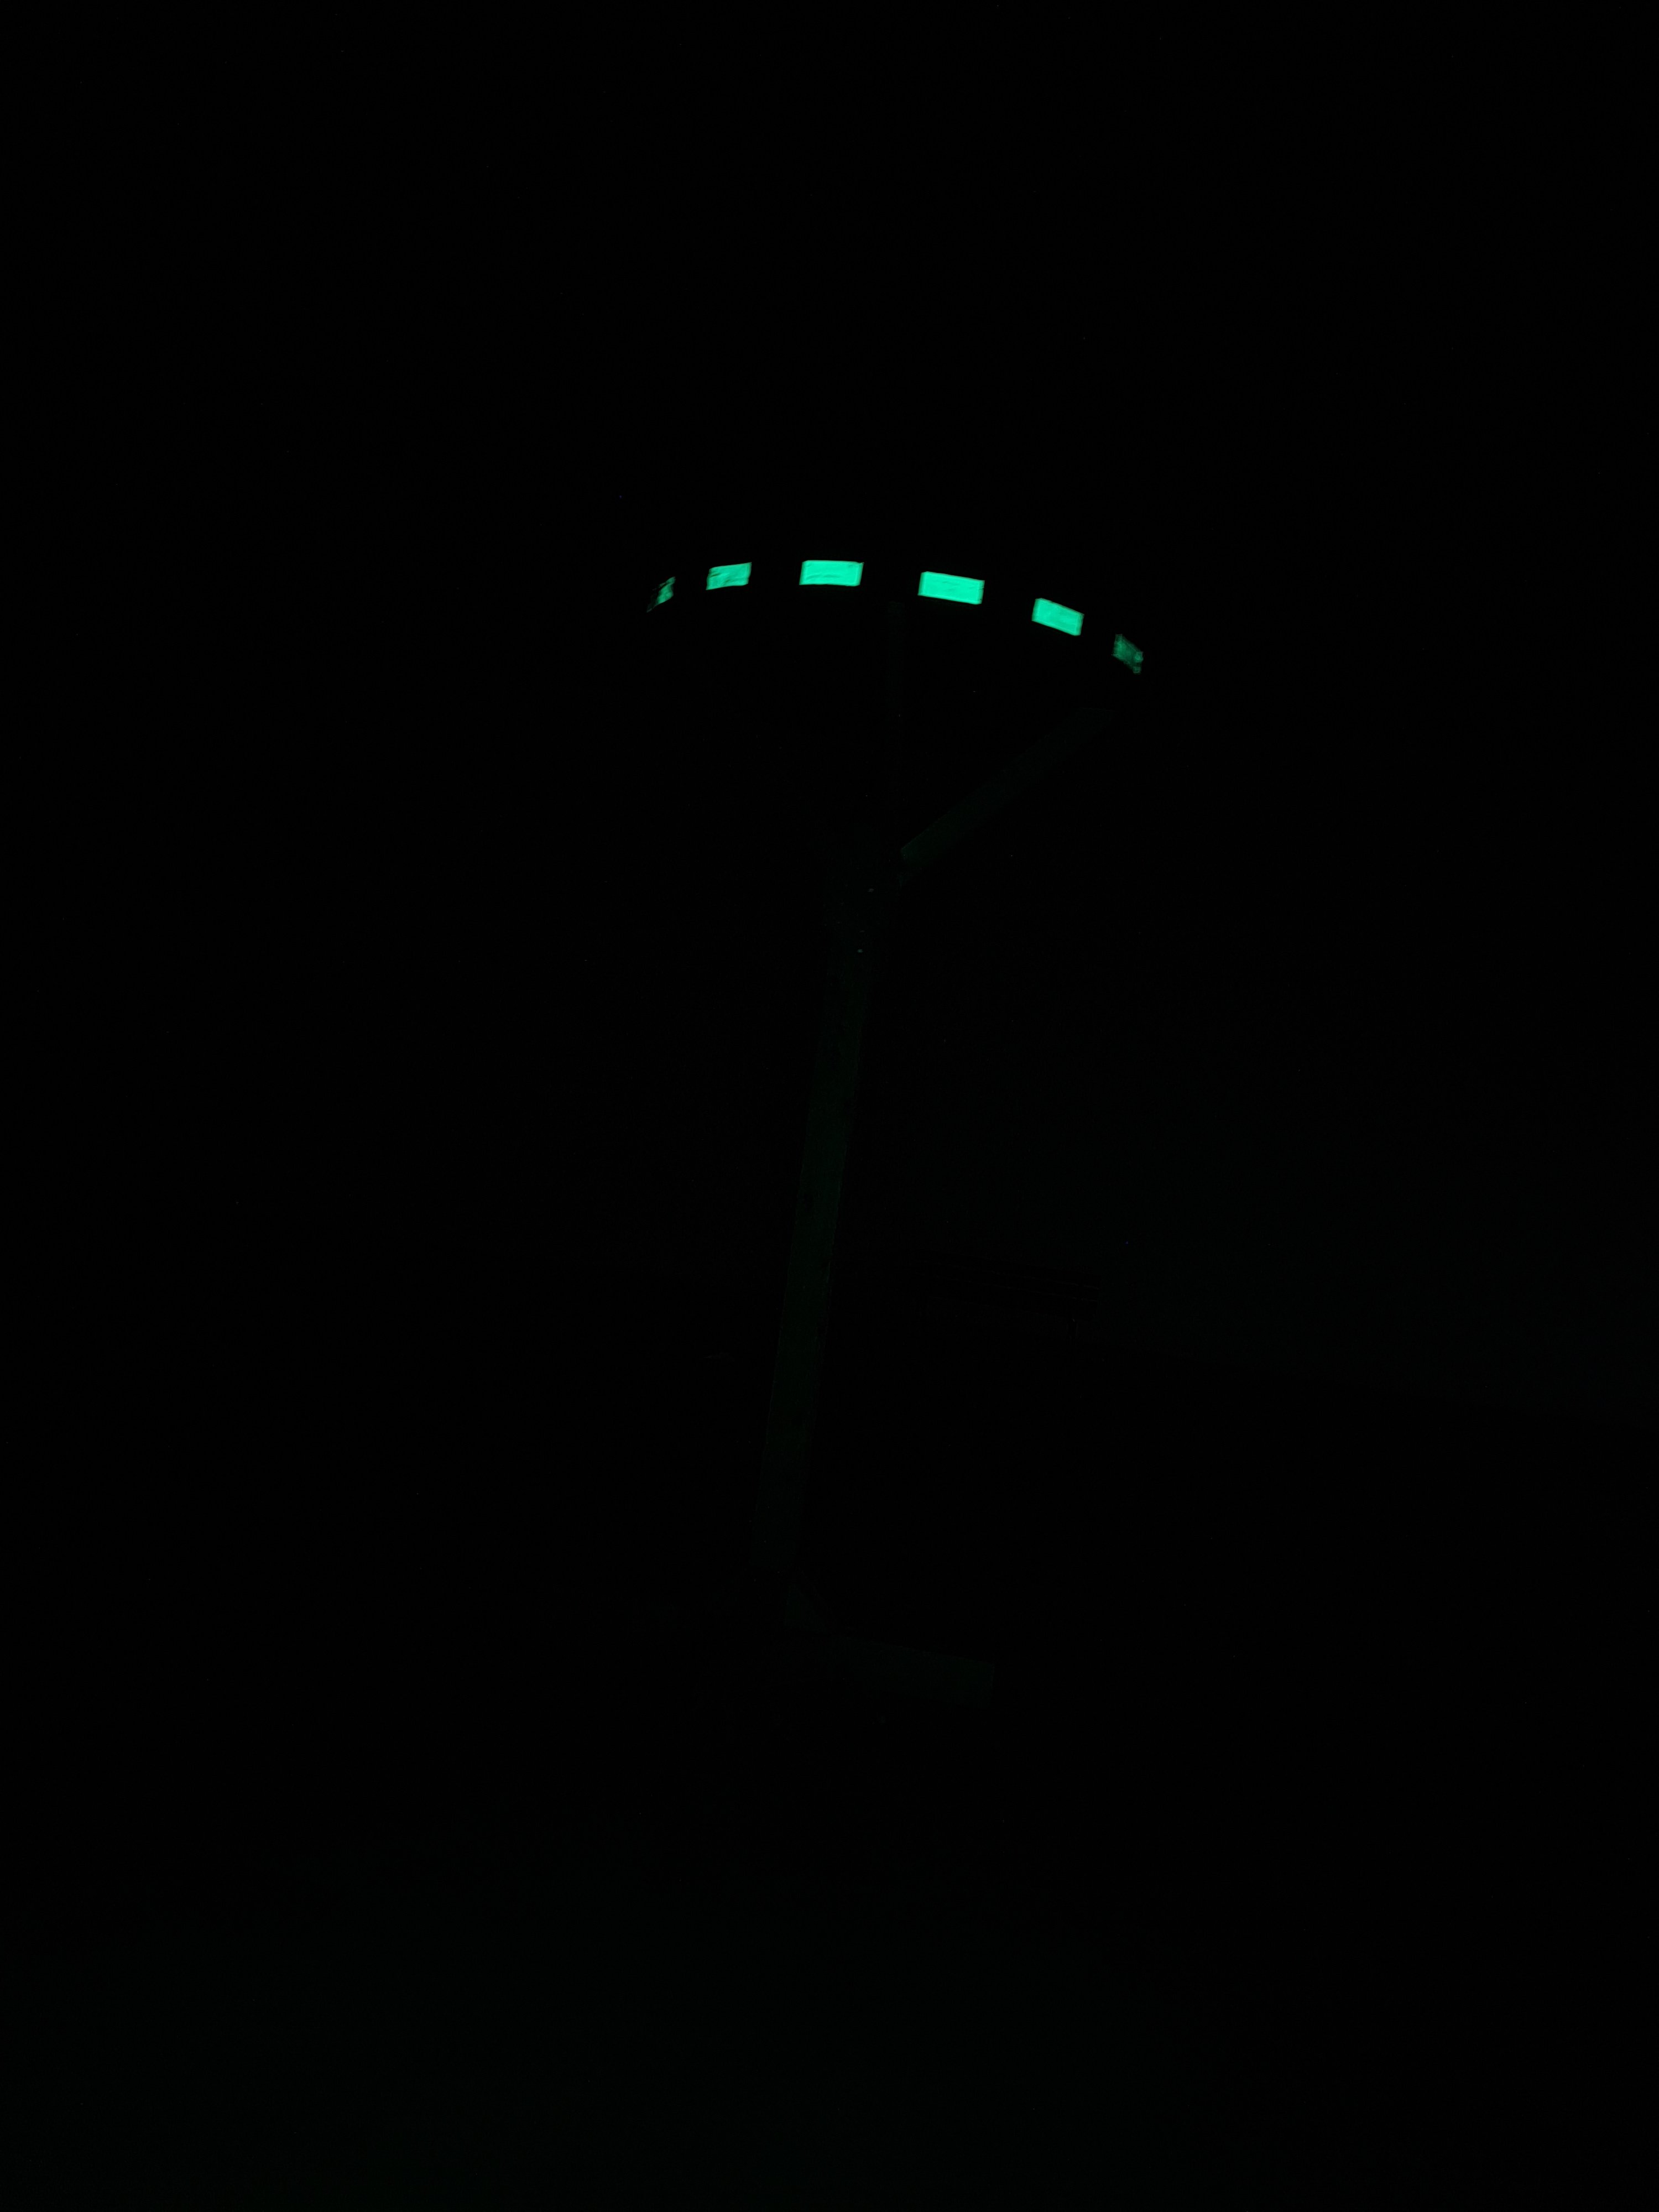hoop: (638, 542, 1155, 693)
